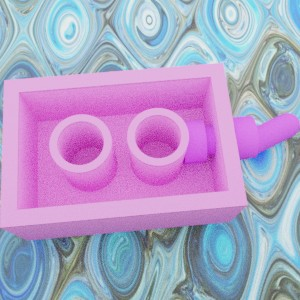lego: (0, 62, 247, 240), (113, 113, 300, 165)
